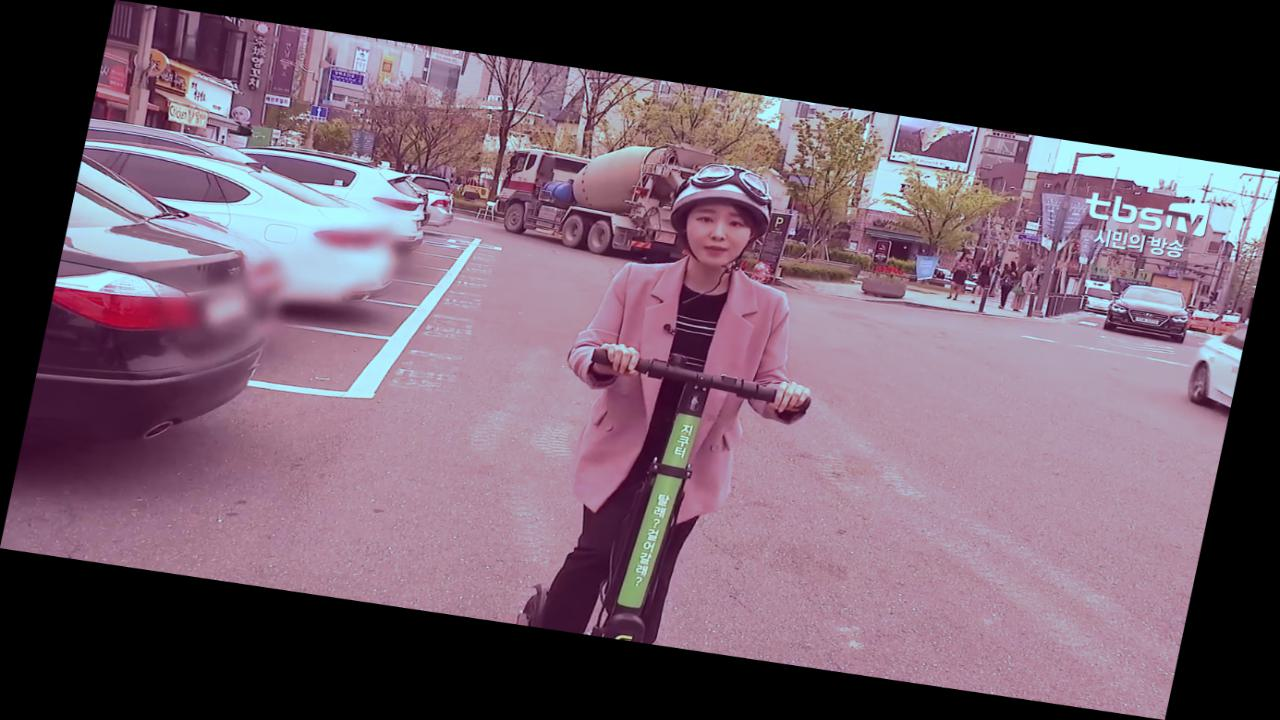helmet: (512, 147, 858, 660)
